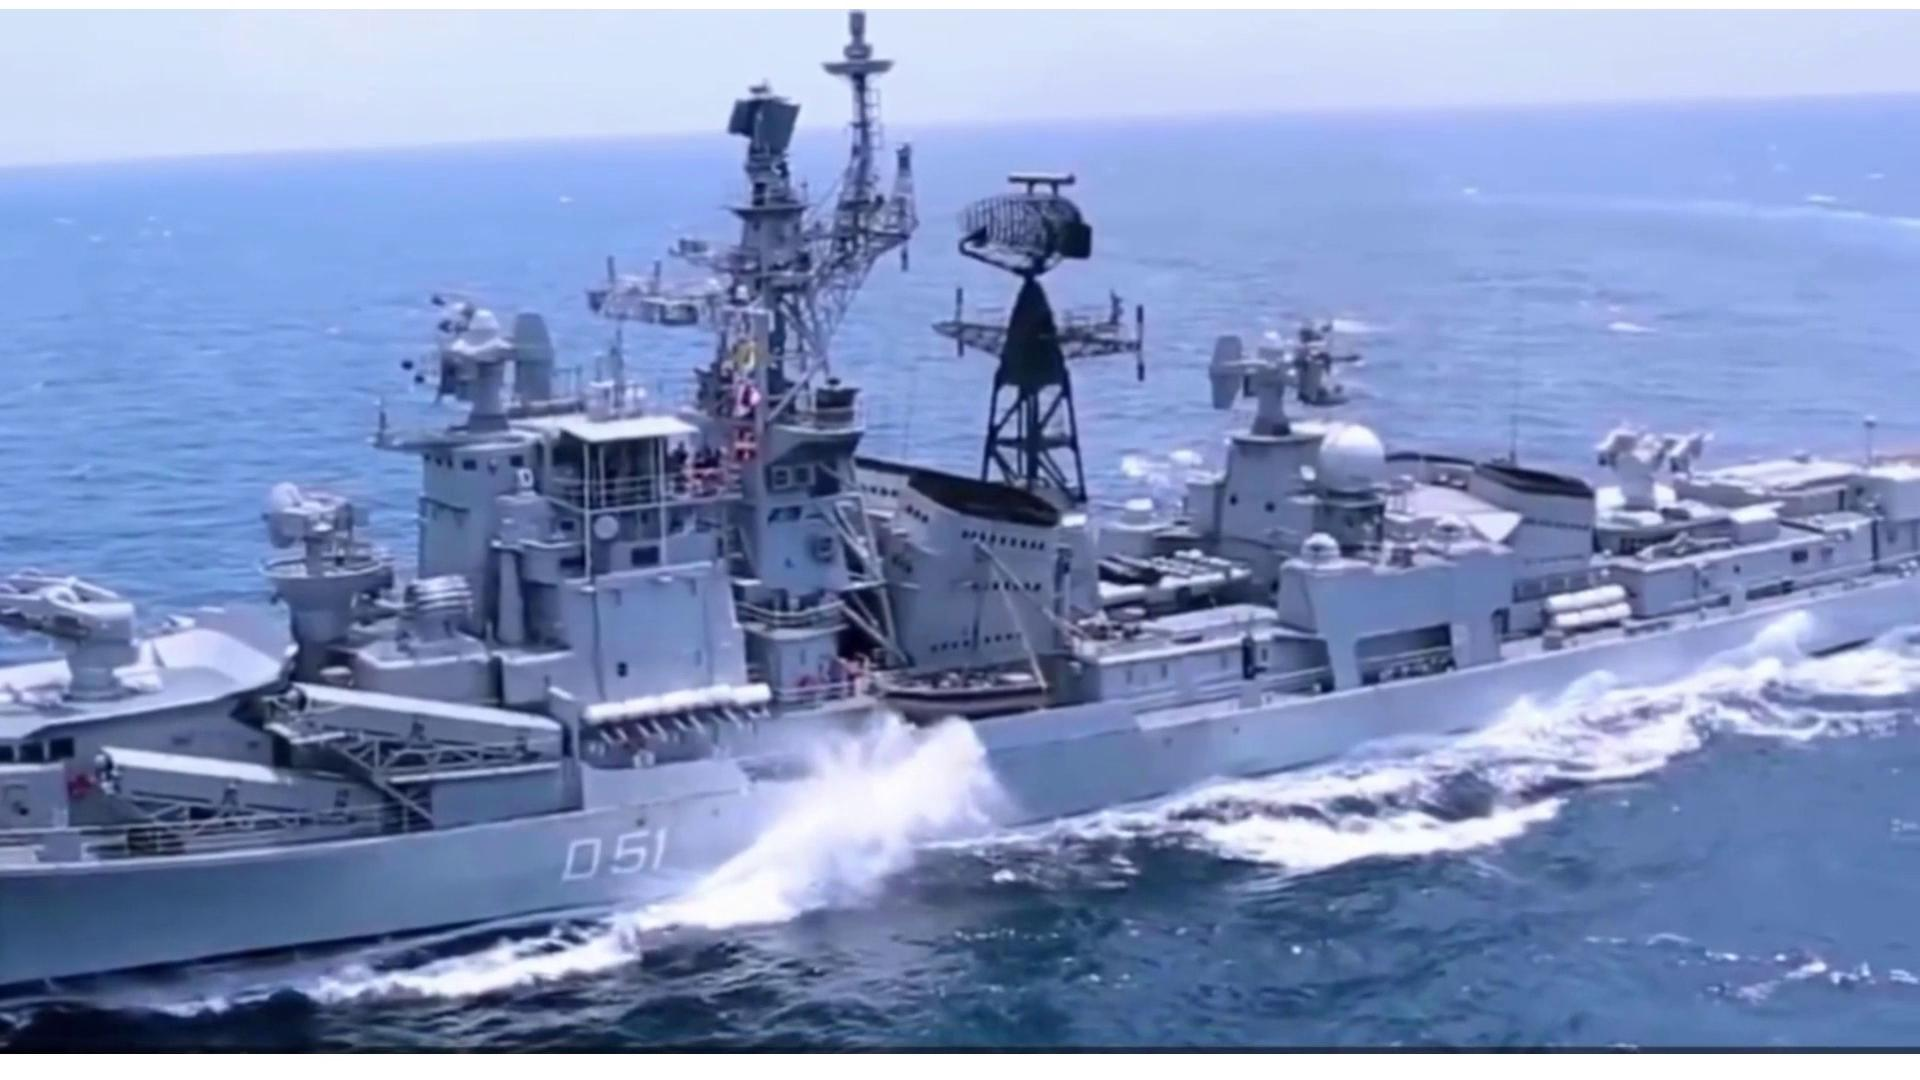OCR: (526, 808, 676, 895)
